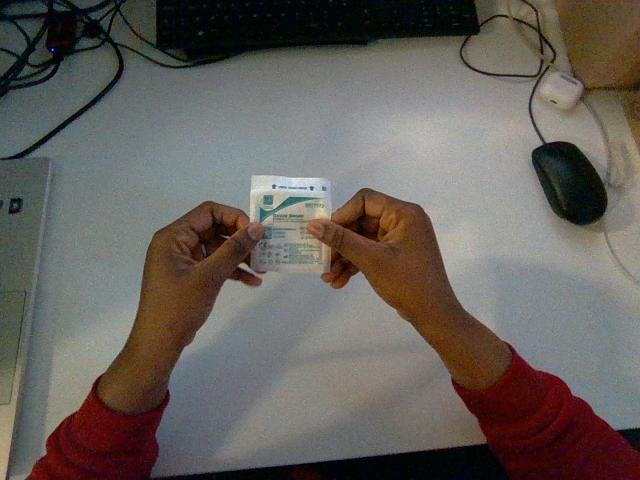gauze: (250, 175, 330, 273)
